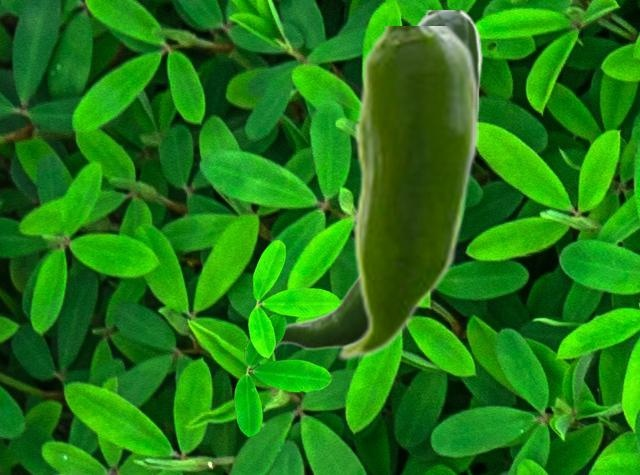green_chili: (275, 10, 482, 350), (335, 26, 477, 361)
